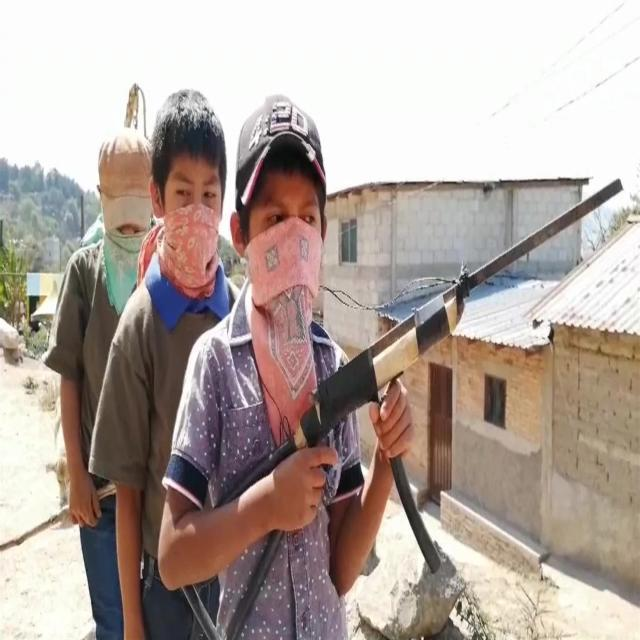weapon: (171, 176, 624, 640)
